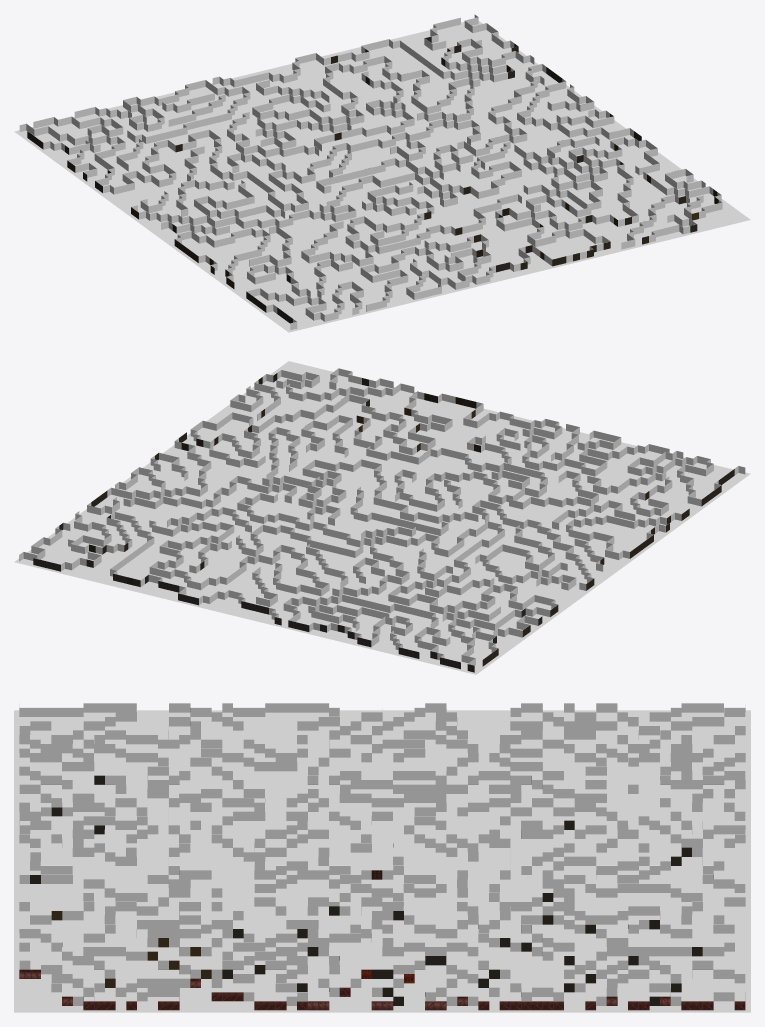
The model's file is level.glb.
3 views of the same model, one above another, from view 1: azimuth 30°, elevation 25°; view 2: azimuth 150°, elevation 25°; view 3: azimuth 270°, elevation 25° (orthographic). The views are drawn at different scales.
Visible parts, largest first — view 1: Maze_Floor, Maze (×39); view 2: Maze_Floor, Maze (×36); view 3: Maze_Floor, Maze (×55).
Boxes of the visible parts, x1,y1,x2,y2 form: Maze_Floor: (14,21,750,332); Maze (×39): (19,14,722,330); Maze_Floor: (14,361,750,674); Maze (×36): (19,368,745,672); Maze_Floor: (14,710,750,1012); Maze (×55): (19,703,745,1010).
Size of the model in its own units: 603 by 8.61 by 621.
Materials: 12 (11 with a texture image).
